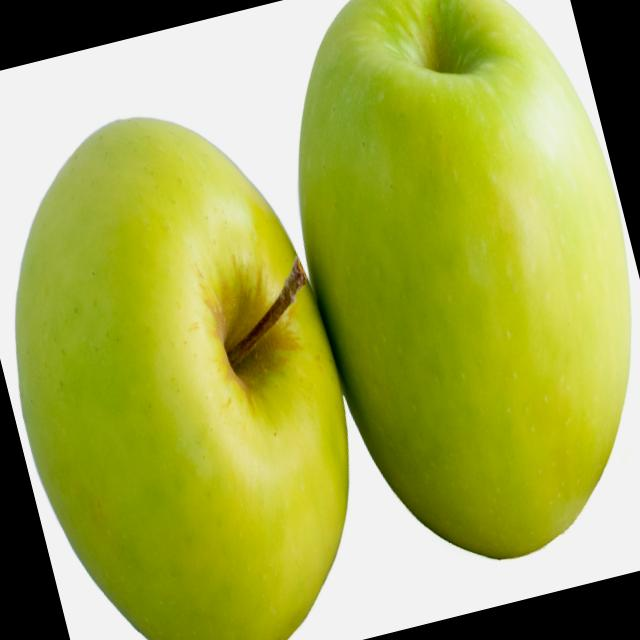alpple: (242, 0, 640, 591), (0, 77, 400, 640)
